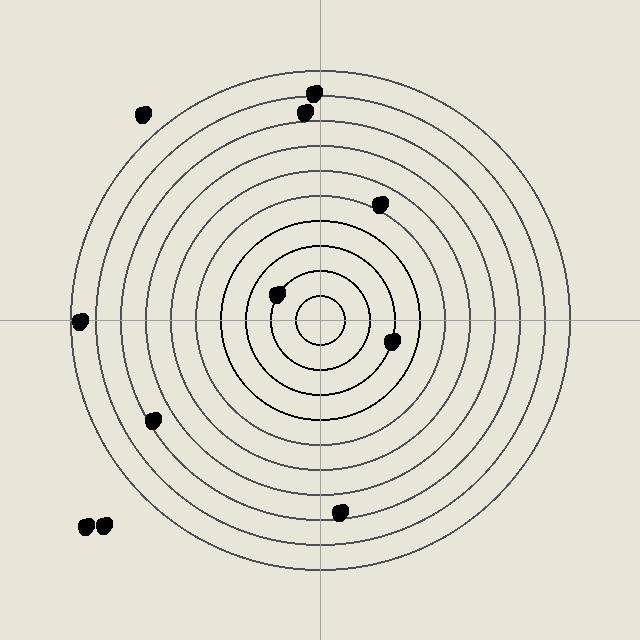random_scatter: (329, 502, 349, 522), (294, 102, 314, 122), (303, 83, 323, 103), (132, 104, 152, 124), (69, 311, 89, 331), (142, 410, 162, 430), (75, 516, 95, 536), (93, 515, 113, 535), (381, 331, 401, 351), (369, 194, 389, 214), (266, 284, 286, 304)
